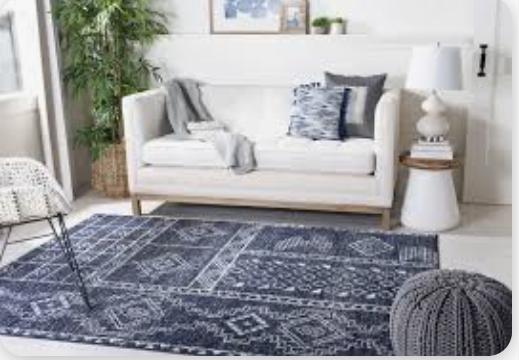carpet: (0, 211, 440, 360)
